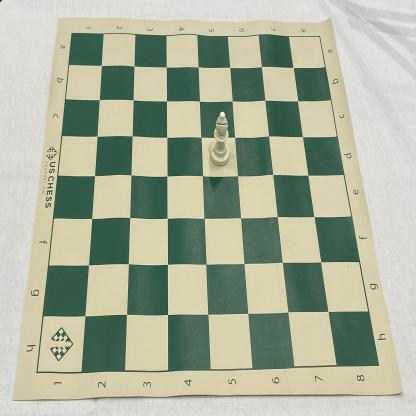white-bishop: (209, 110, 230, 168)
